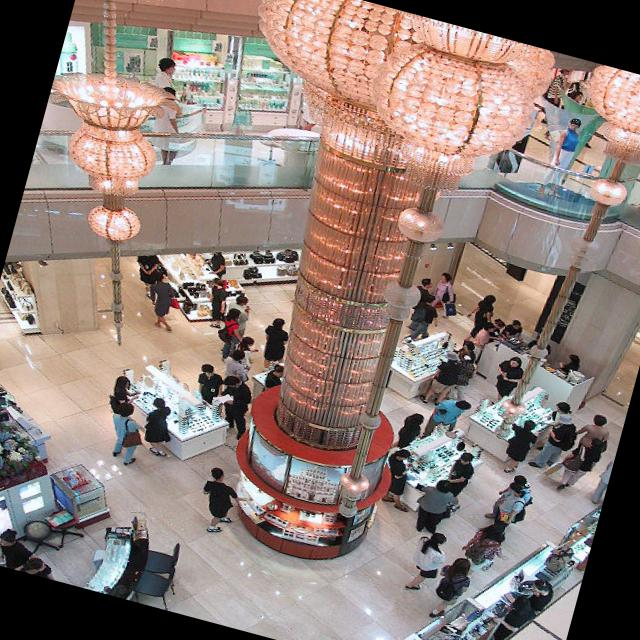2001: (337, 31, 395, 190), (420, 75, 487, 186)
Window: (416, 71, 493, 193)
bouquet: (481, 201, 542, 229)
ceiling beam: (421, 17, 640, 143)
ceiling lamps: (483, 51, 604, 146)
chair: (405, 175, 452, 208), (538, 194, 583, 222), (457, 181, 486, 207)
chair -occluded-: (349, 194, 439, 280)
chairs desk: (531, 219, 601, 311)
door bars: (595, 153, 640, 260)
painting crop: (515, 146, 560, 179)
plant -x: (481, 157, 542, 205)
table -X: (359, 203, 588, 303)
table setting for dinner: (398, 217, 514, 278)
